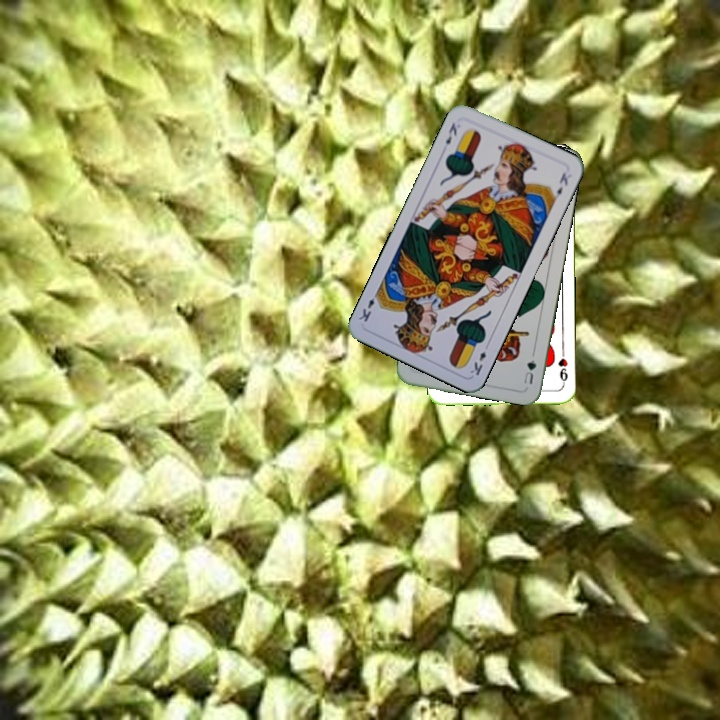EK: (466, 339, 492, 378), (441, 118, 459, 147)
GU: (520, 356, 539, 387)
H9: (554, 354, 570, 388)
